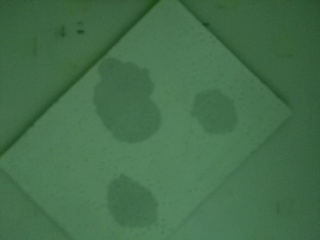Water_detected: (102, 75, 163, 134), (120, 181, 156, 215), (196, 97, 222, 132)
